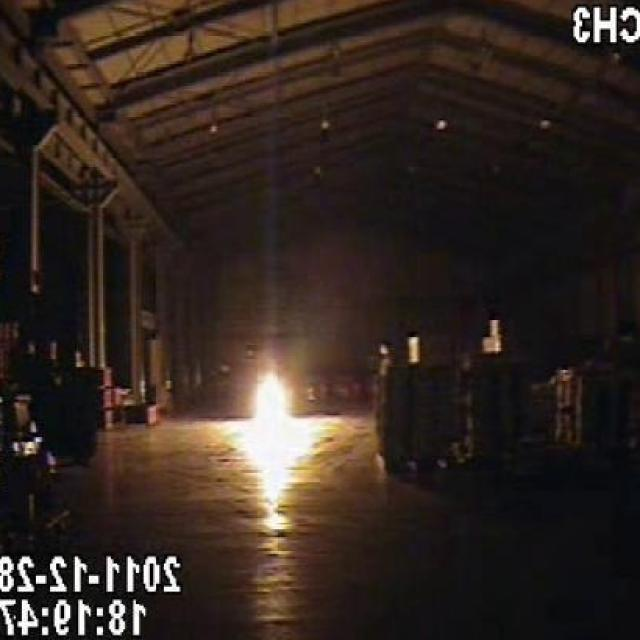smoke: (247, 370, 300, 465)
